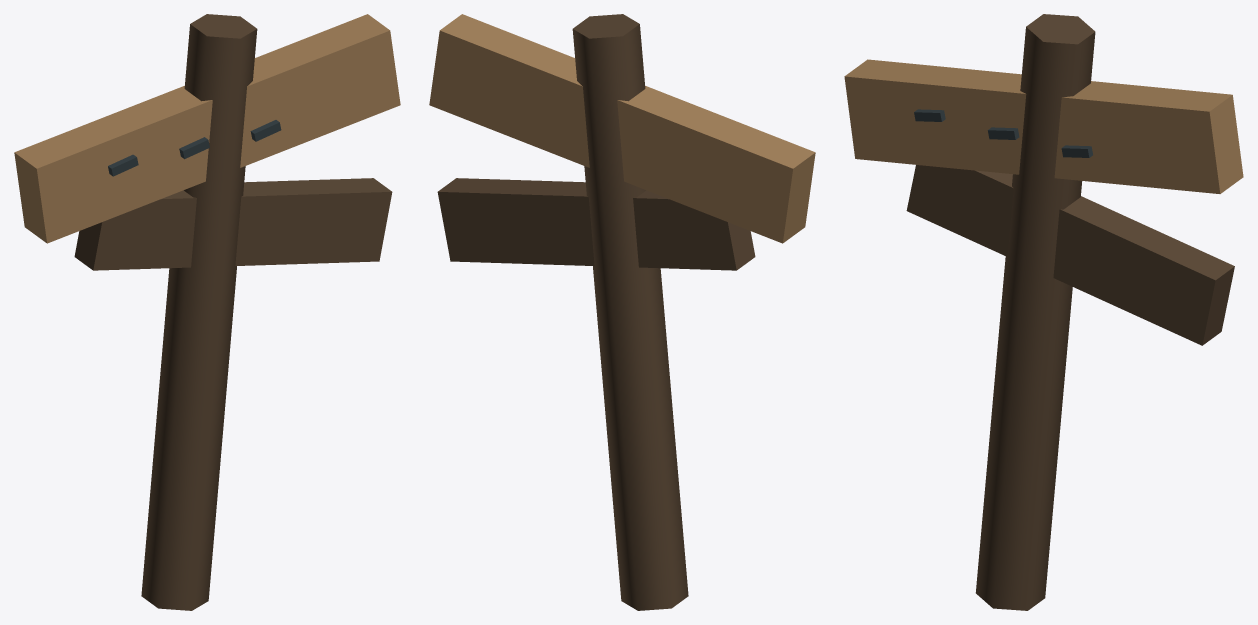
Rendered from crooked-sign.glb.
3 renders of one model, left to right at view 1: azimuth 30°, elevation 25°; view 2: azimuth 150°, elevation 25°; view 3: azimuth 330°, elevation 25°, orthographic. The views are drawn at different scales.
Visible parts, largest first — view 1: crooked-sign; view 2: crooked-sign; view 3: crooked-sign.
Part boxes in pixels (x1=…): crooked-sign: x1=14, y1=14, x2=400, y2=610; crooked-sign: x1=429, y1=14, x2=815, y2=610; crooked-sign: x1=844, y1=14, x2=1243, y2=610.
Bounding box in the file's own units: 1.12 × 1.66 × 0.18.
